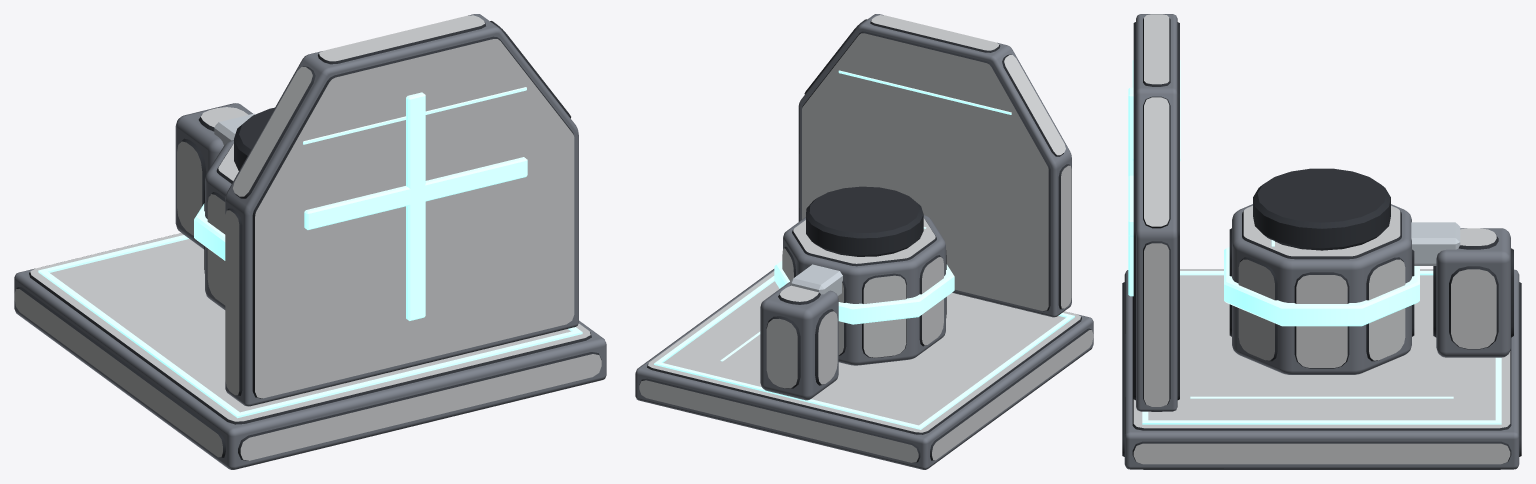
The model's file is R4X_DefensiveTurretDeployer.fbx.
3 views of the same model, side by side, from view 1: azimuth 30°, elevation 25°; view 2: azimuth 150°, elevation 25°; view 3: azimuth 270°, elevation 25° (orthographic). The views are drawn at different scales.
Parts seen in each view (by area): view 1: R4X_DefensiveTurretDeployer_Pod, R4X_DefensiveTurretDeployer_Body; view 2: R4X_DefensiveTurretDeployer_Pod, R4X_DefensiveTurretDeployer_Body; view 3: R4X_DefensiveTurretDeployer_Body, R4X_DefensiveTurretDeployer_Pod.
Part boxes in pixels (box(x1,y1,x2,y2)): R4X_DefensiveTurretDeployer_Pod: box(194, 14, 578, 406); R4X_DefensiveTurretDeployer_Body: box(14, 103, 606, 469); R4X_DefensiveTurretDeployer_Pod: box(774, 14, 1071, 365); R4X_DefensiveTurretDeployer_Body: box(635, 264, 1093, 469); R4X_DefensiveTurretDeployer_Body: box(1122, 222, 1521, 469); R4X_DefensiveTurretDeployer_Pod: box(1128, 14, 1419, 411).
Size of the model in its own units: 0.52 by 0.49 by 0.52.
